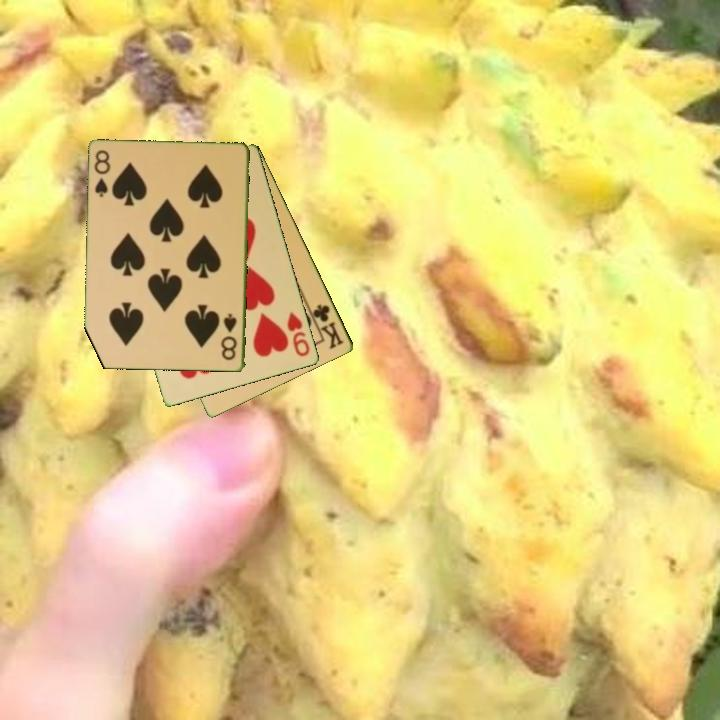8s: (91, 147, 113, 200), (219, 311, 240, 363)
9h: (284, 308, 313, 360)
Kc: (306, 301, 347, 352)
